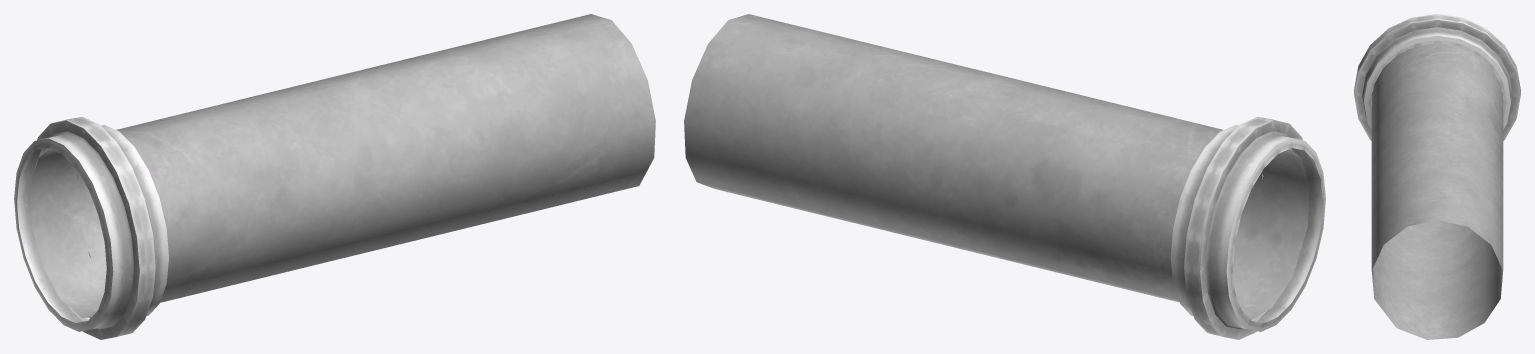
The model's file is SM_Pipes_03d.glb.
The picture shows the model from 3 angles, left to right: view 1: azimuth 30°, elevation 25°; view 2: azimuth 150°, elevation 25°; view 3: azimuth 270°, elevation 25°; orthographic projection. The views are drawn at different scales.
Visible parts, largest first — view 1: SM_Pipes_03d; view 2: SM_Pipes_03d; view 3: SM_Pipes_03d.
Boxes of the visible parts, left/top/right/bottom form: SM_Pipes_03d: left=14, top=14, right=655, bottom=339; SM_Pipes_03d: left=684, top=14, right=1325, bottom=339; SM_Pipes_03d: left=1354, top=14, right=1520, bottom=339.
Bounding box in the file's own units: 0.5001 × 0.1773 × 0.1773.
1 material, 1 textured.
